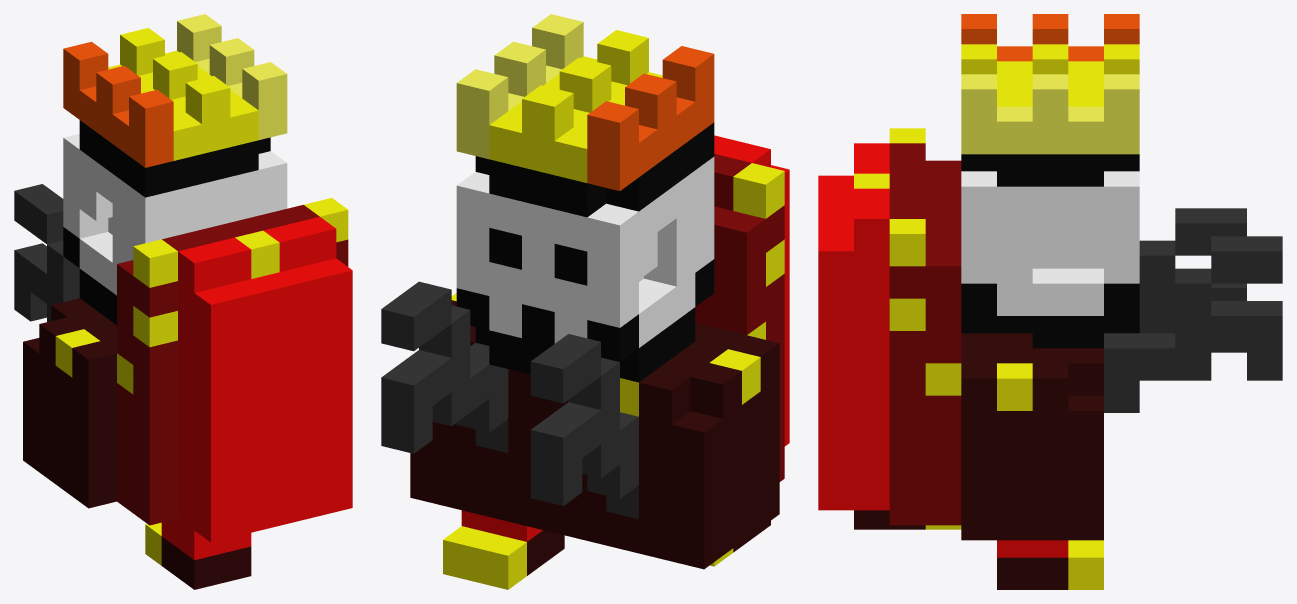
The model's file is mouja.obj.
3 renders of one model, left to right at view 1: azimuth 30°, elevation 25°; view 2: azimuth 150°, elevation 25°; view 3: azimuth 270°, elevation 25°, orthographic. The views are drawn at different scales.
Visible parts, largest first — view 1: Cube.206_Cube.16878; view 2: Cube.206_Cube.16878; view 3: Cube.206_Cube.16878.
Boxes of the visible parts, left/top/right/bottom form: Cube.206_Cube.16878: left=14, top=14, right=352, bottom=589; Cube.206_Cube.16878: left=381, top=14, right=789, bottom=589; Cube.206_Cube.16878: left=818, top=14, right=1282, bottom=589.
Bounding box in the file's own units: 0.5625 × 0.9375 × 0.8125.
